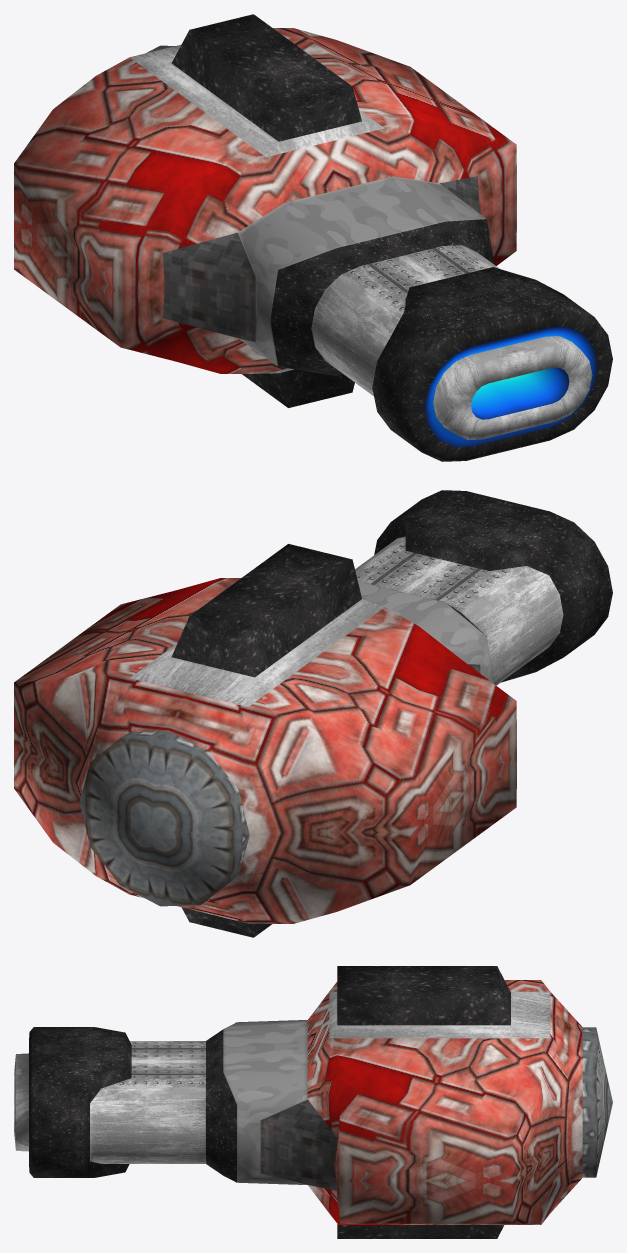
The model's file is blasterMedium.obj.
3 renders of one model, top to bottom at view 1: azimuth 30°, elevation 25°; view 2: azimuth 150°, elevation 25°; view 3: azimuth 270°, elevation 25°, orthographic. The views are drawn at different scales.
Parts seen in each view (by area): view 1: plasmaCannon_Cylinder.006; view 2: plasmaCannon_Cylinder.006; view 3: plasmaCannon_Cylinder.006.
Boxes of the visible parts, x1,y1,x2,y2 form: plasmaCannon_Cylinder.006: (14, 14, 612, 461); plasmaCannon_Cylinder.006: (14, 490, 612, 937); plasmaCannon_Cylinder.006: (14, 966, 612, 1238).
Size of the model in its own units: 0.7647 by 0.5641 by 1.24.
1 material, 1 textured.
